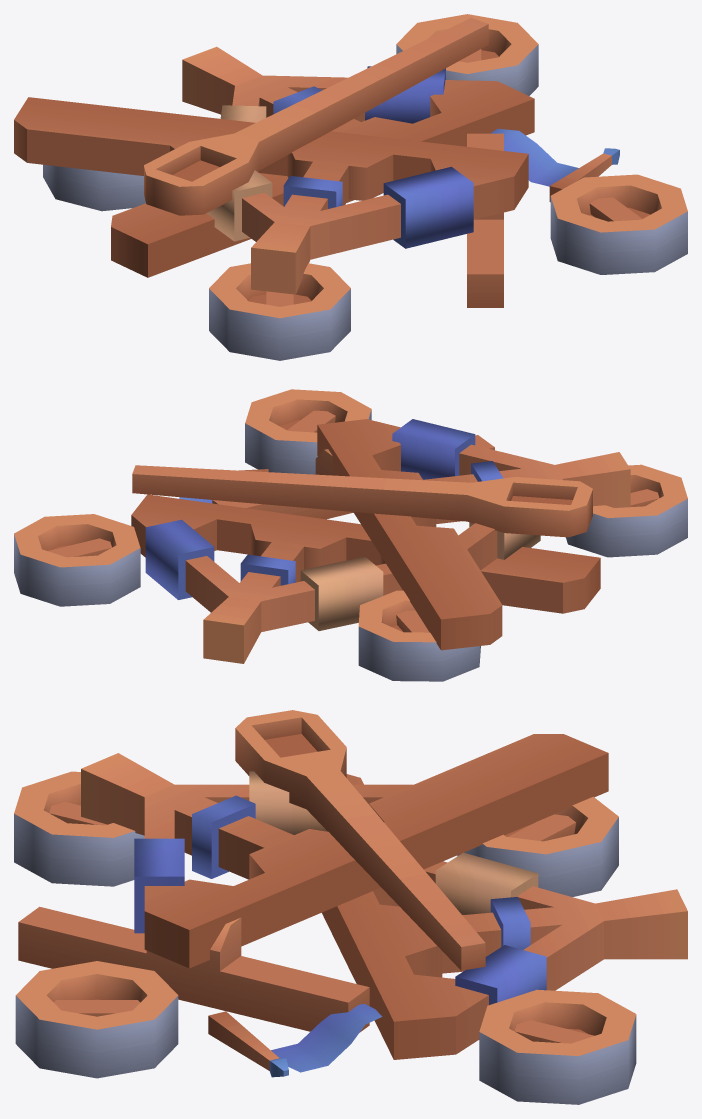
Rendered from catapulte-detruite.glb.
The picture shows the model from 3 angles, top to bottom: view 1: azimuth 30°, elevation 25°; view 2: azimuth 150°, elevation 25°; view 3: azimuth 270°, elevation 25°; orthographic projection. The views are drawn at different scales.
Parts seen in each view (by area): view 1: siege-catapult-demolished; view 2: siege-catapult-demolished; view 3: siege-catapult-demolished.
Part boxes in pixels (x1,y1,x2,y2): siege-catapult-demolished: (14,14,687,360); siege-catapult-demolished: (14,389,687,681); siege-catapult-demolished: (14,710,687,1104).
Size of the model in its own units: 6 by 1.15 by 5.97.
Materials: 1 (1 with a texture image).
